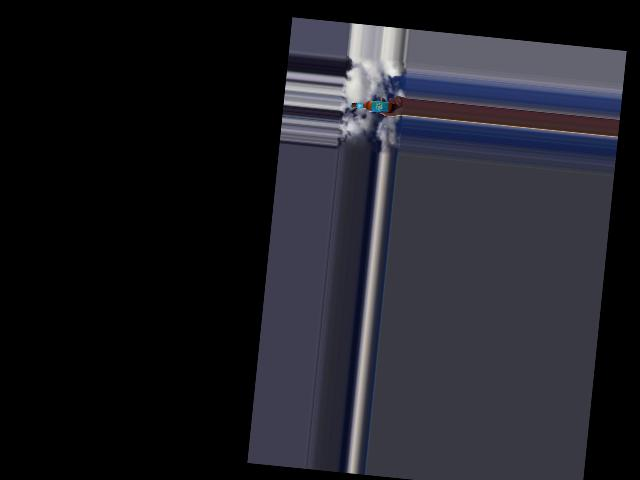beer: (350, 99, 393, 114)
